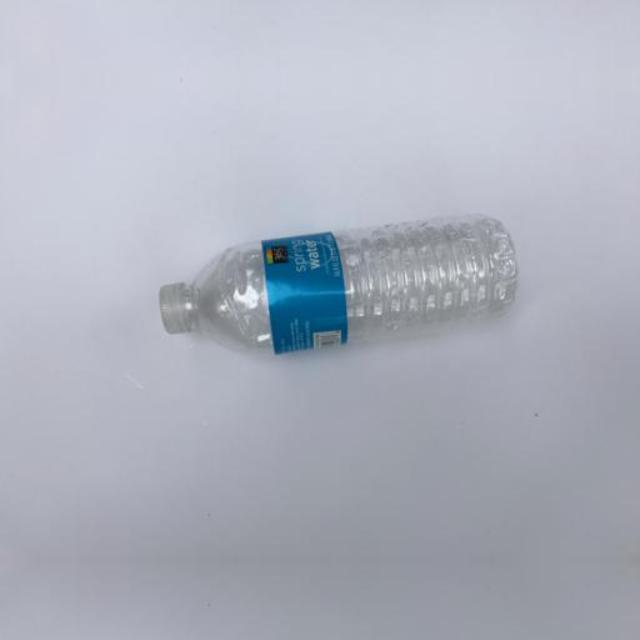Plastic: (132, 210, 534, 360)
